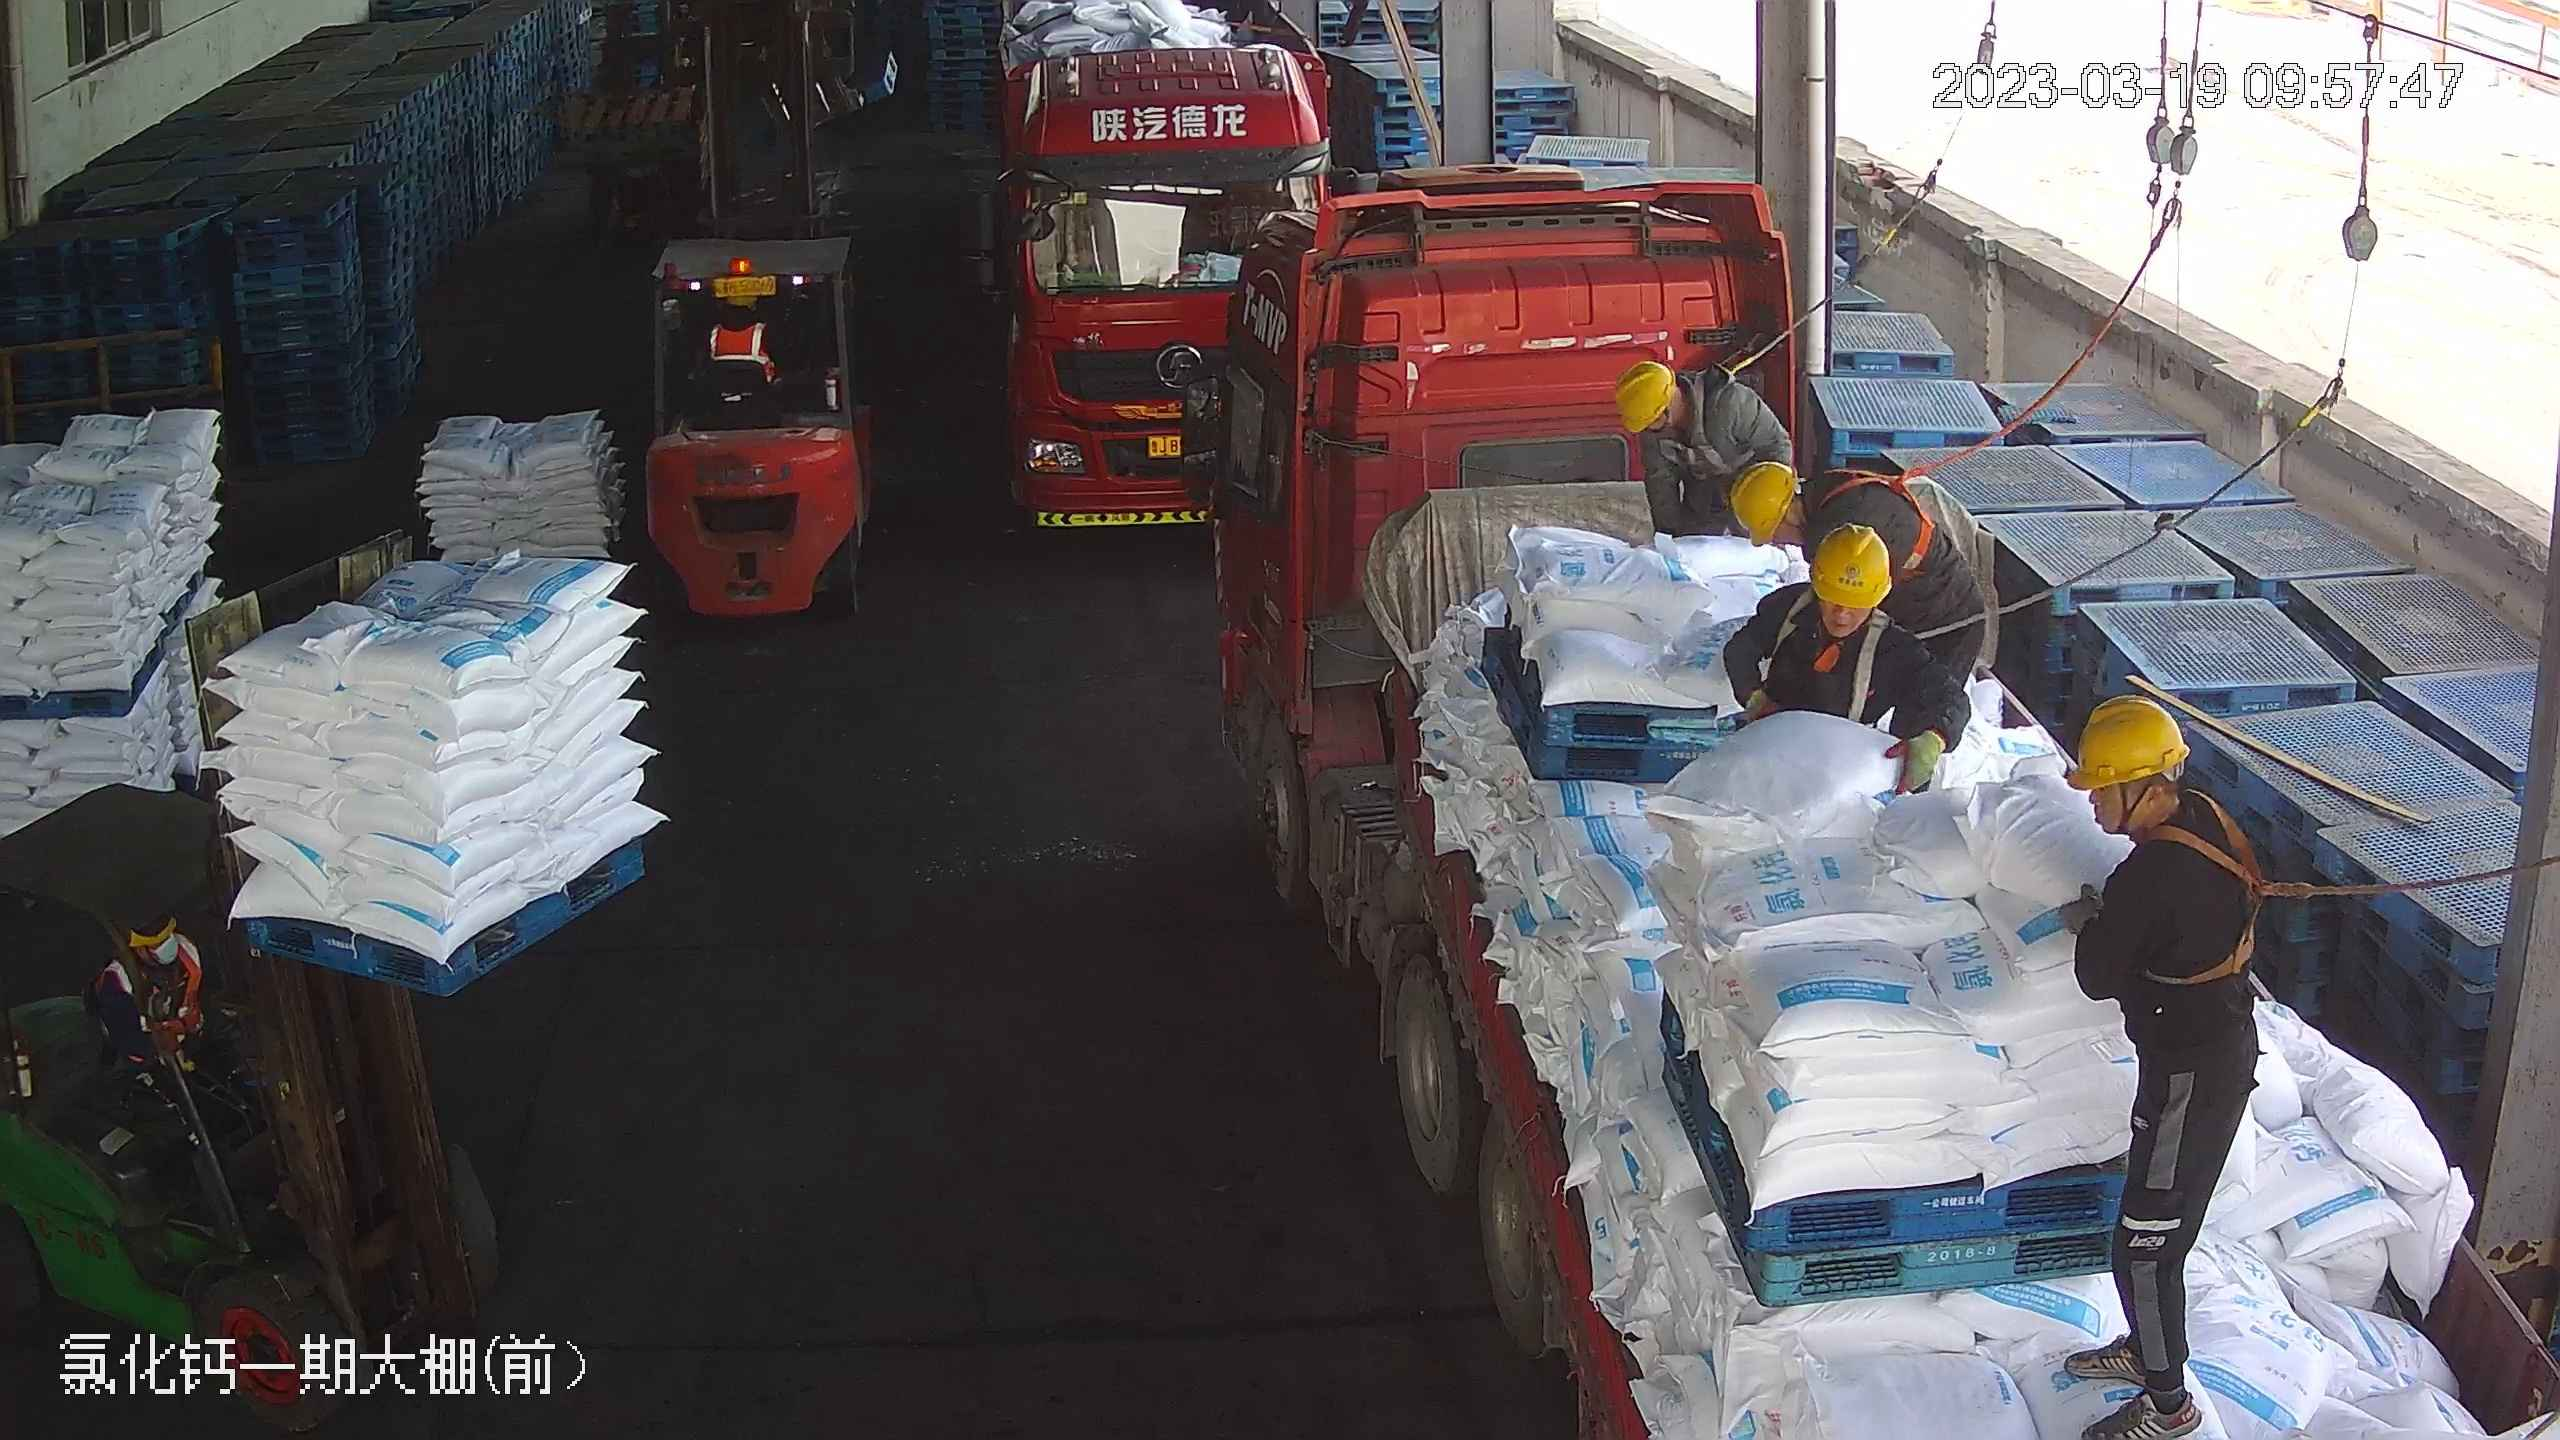belt: (2133, 800, 2298, 996), (1821, 449, 1953, 577), (1791, 599, 1933, 714), (1655, 359, 1754, 468)
head: (2060, 690, 2265, 932), (1744, 516, 1953, 677), (1730, 455, 1894, 566), (1610, 356, 1744, 453), (695, 273, 779, 358)
helmet: (2060, 692, 2187, 792), (1808, 520, 1895, 608), (1728, 458, 1798, 543), (1613, 360, 1679, 434)
people: (2060, 692, 2267, 1437), (1728, 465, 1994, 725), (1615, 351, 1796, 548)
truck: (1200, 162, 2423, 1437), (979, 1, 1335, 528)
